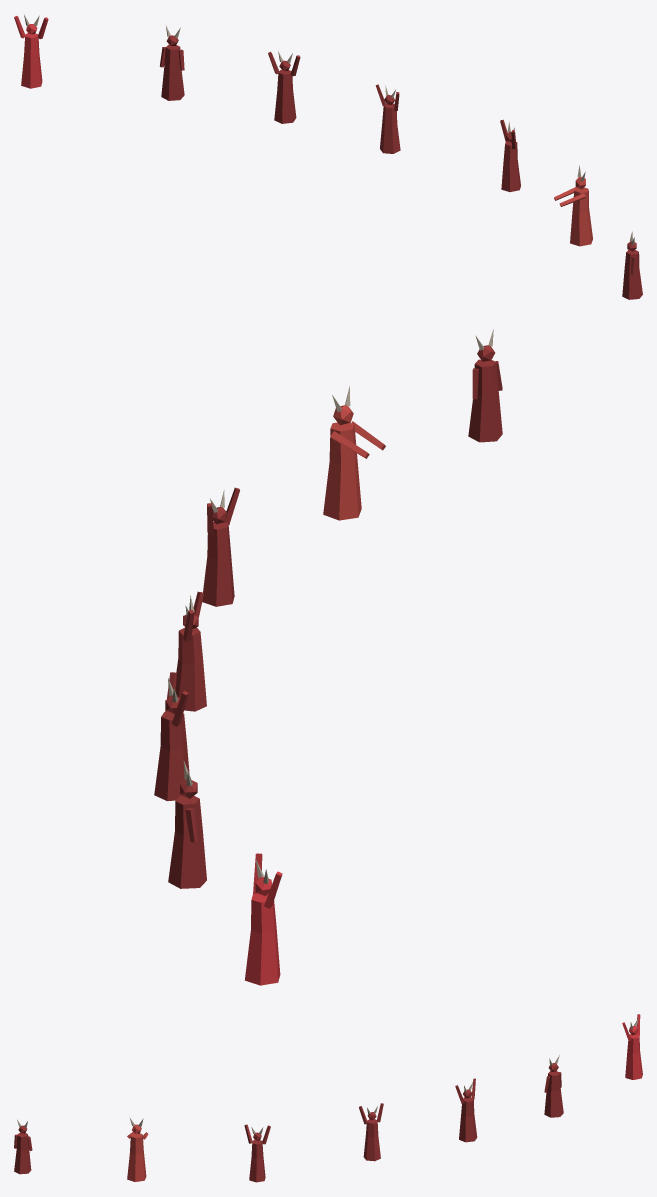
Rendered from Stands_3_1_1.obj.
The picture shows the model from 3 angles, top to bottom: view 1: azimuth 30°, elevation 25°; view 2: azimuth 150°, elevation 25°; view 3: azimuth 270°, elevation 25°; orthographic projection. The views are drawn at different scales.
Parts seen in each view (by area): view 1: Stands_3_1_1; view 2: Stands_3_1_1; view 3: Stands_3_1_1.
Part boxes in pixels (bbox=[...]): Stands_3_1_1: bbox=[14, 14, 642, 299]; Stands_3_1_1: bbox=[154, 329, 502, 985]; Stands_3_1_1: bbox=[14, 1014, 642, 1182].
Size of the model in its own units: 13.37 by 3.39 by 31.66.
Materials: 1 (1 with a texture image).
